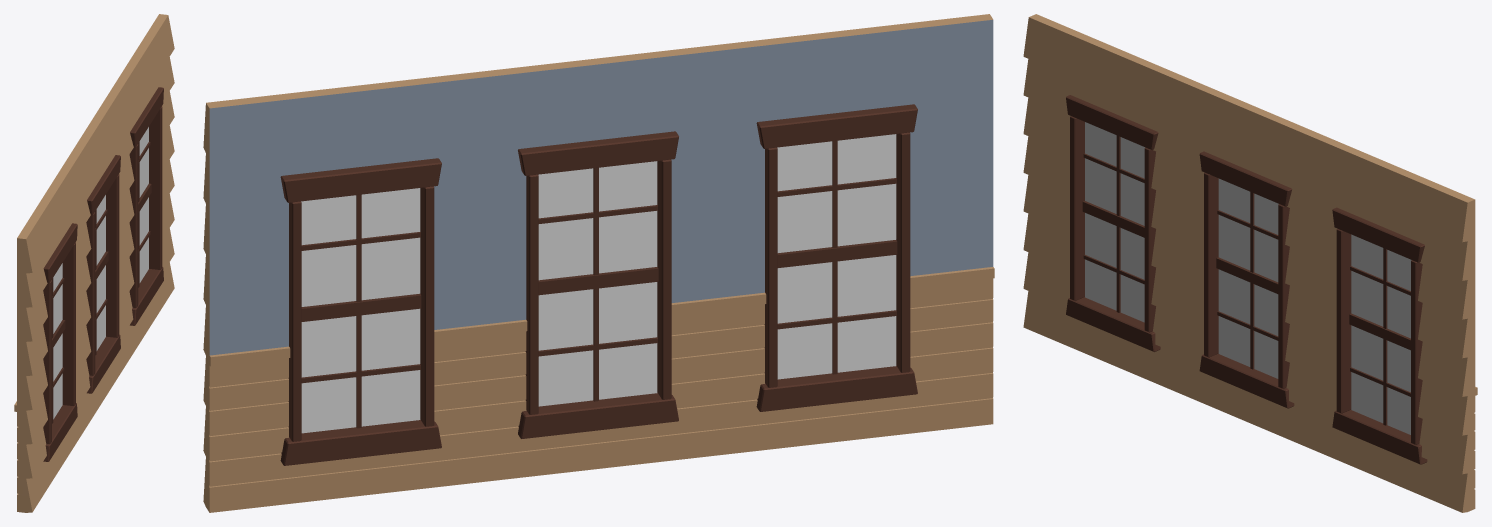
The model's file is window-d.glb.
3 views of the same model, side by side, from view 1: azimuth 30°, elevation 25°; view 2: azimuth 150°, elevation 25°; view 3: azimuth 270°, elevation 25° (orthographic). The views are drawn at different scales.
Visible parts, largest first — view 1: Window D (×3); view 2: Window D (×4); view 3: Window D (×3).
Part boxes in pixels (<box>): Window D (×3): <box>14,14,174,512</box>; Window D (×4): <box>203,14,994,512</box>; Window D (×3): <box>1023,14,1477,512</box>.
Size of the model in its own units: 2.93 by 2.2 by 2.93.
